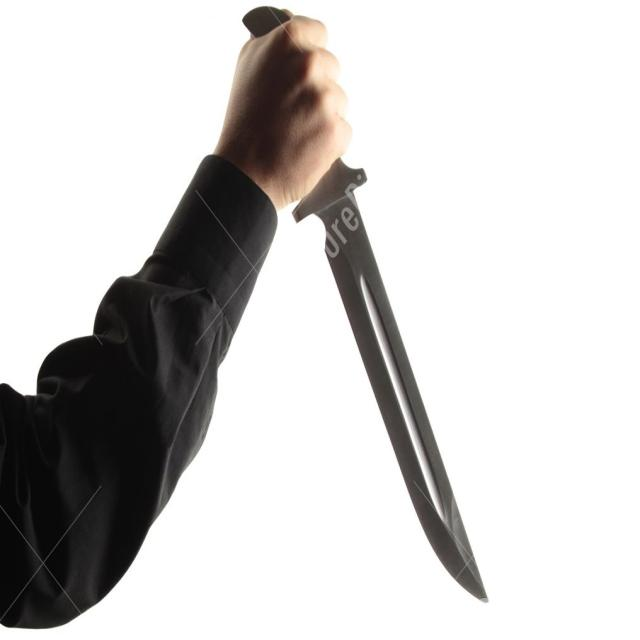knife: (241, 3, 493, 609)
